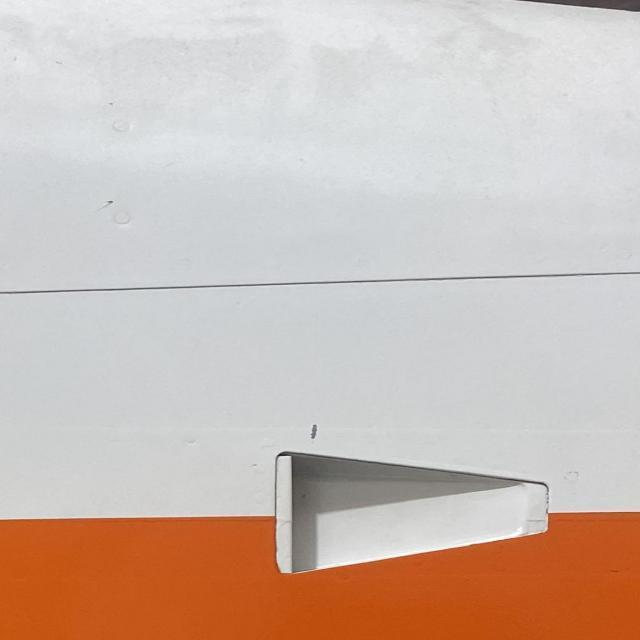Paint-off: (310, 422, 319, 440)
